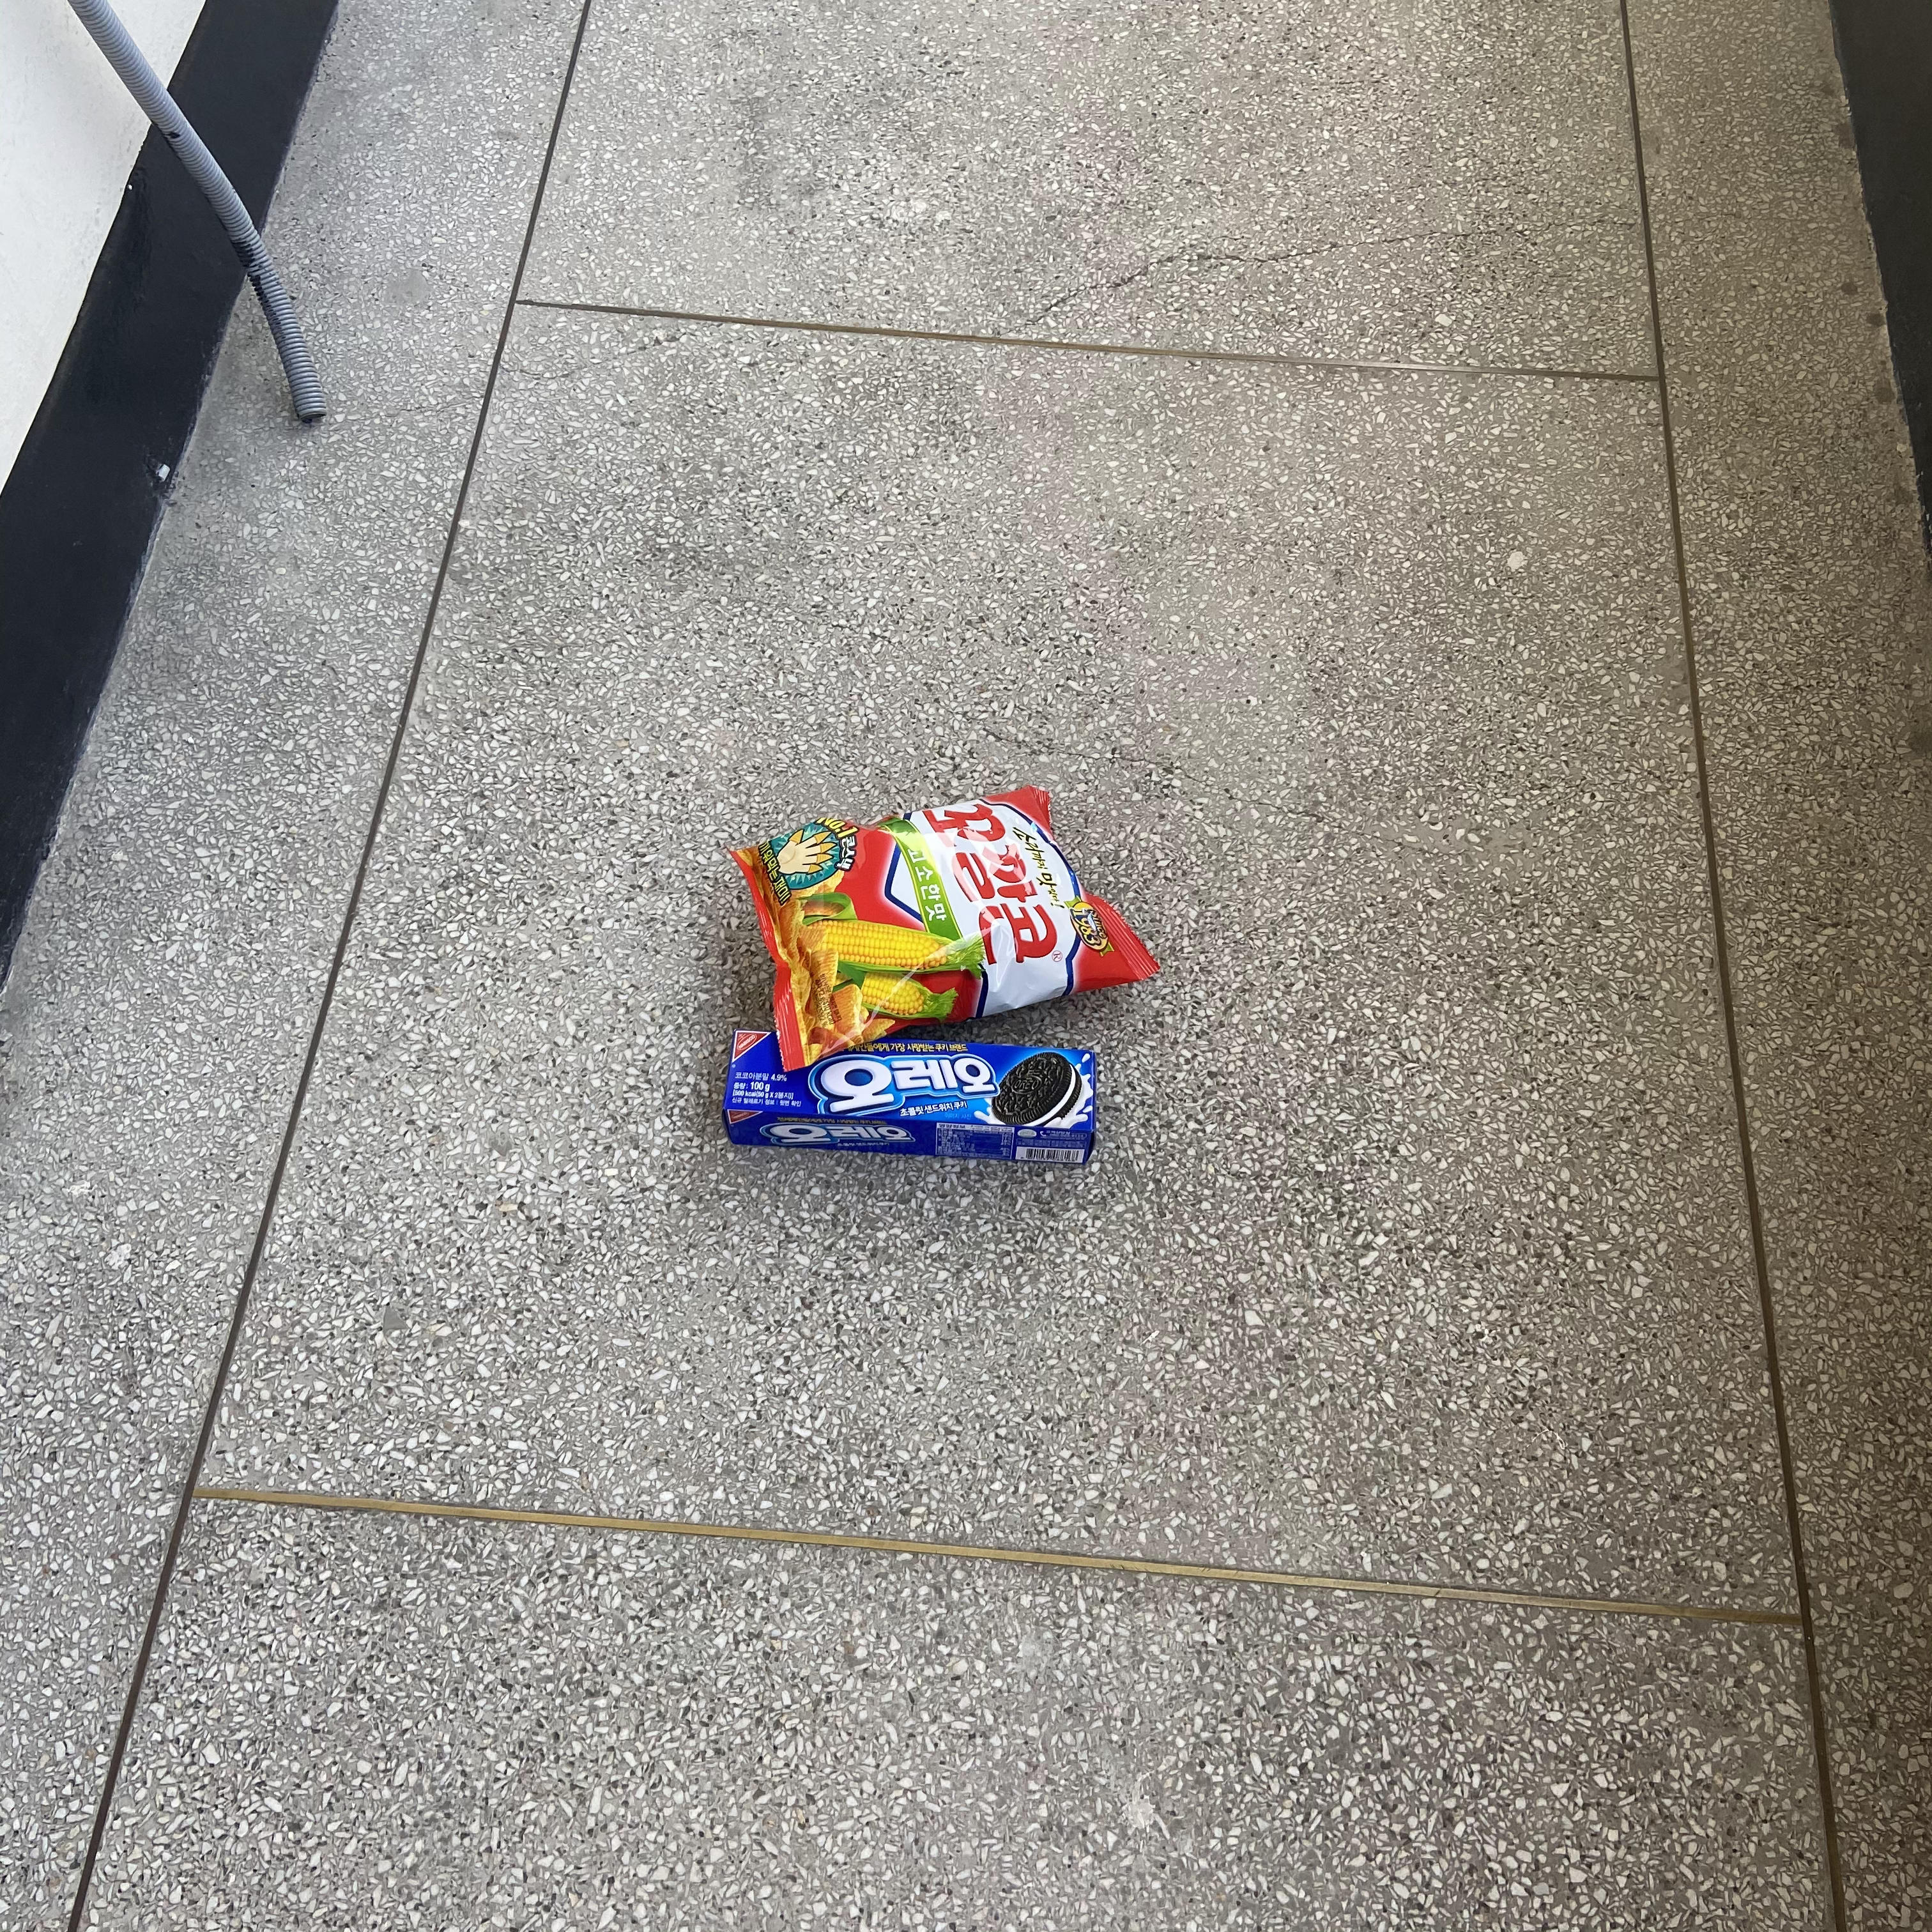ggoggalcon: (734, 784, 1162, 1081)
oreo: (711, 1030, 1106, 1173)
